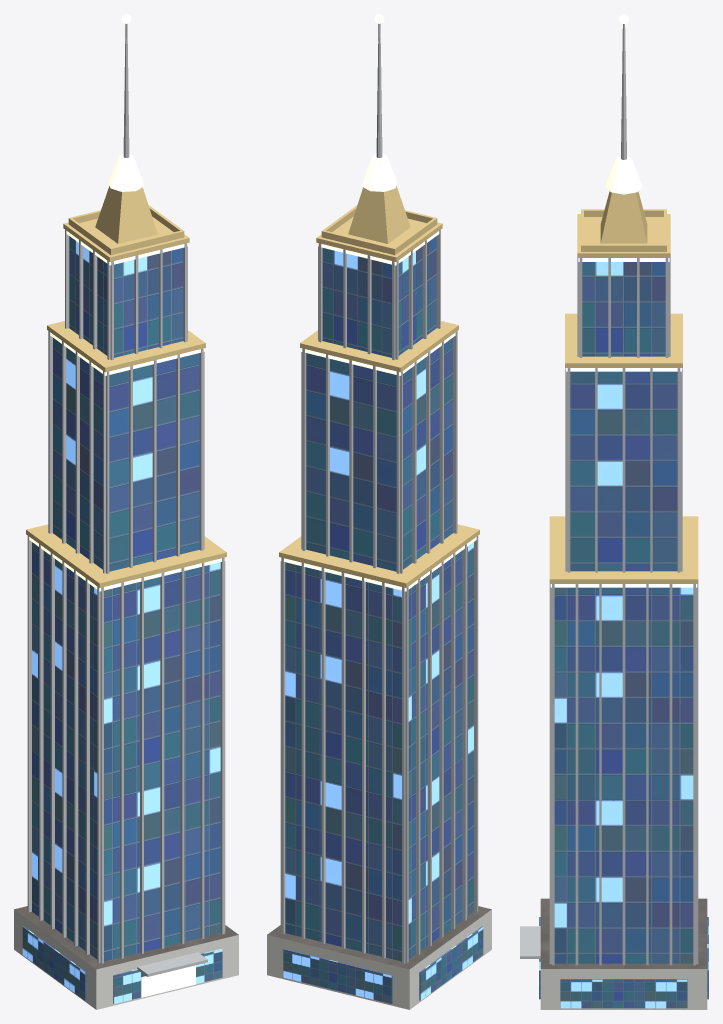
File: financial_tower_spire.glb
3 views of the same model, side by side, from view 1: azimuth 30°, elevation 25°; view 2: azimuth 150°, elevation 25°; view 3: azimuth 270°, elevation 25° (orthographic).
Visible parts, largest first — view 1: financial_tower_spire__facade_glass, financial_tower_spire__steel, financial_tower_spire__gold, financial_tower_spire__white, financial_tower_spire__trim_glow, financial_tower_spire__roof, financial_tower_spire__window_glow; view 2: financial_tower_spire__facade_glass, financial_tower_spire__steel, financial_tower_spire__gold, financial_tower_spire__white, financial_tower_spire__trim_glow, financial_tower_spire__roof; view 3: financial_tower_spire__facade_glass, financial_tower_spire__steel, financial_tower_spire__gold, financial_tower_spire__white, financial_tower_spire__trim_glow, financial_tower_spire__roof.
Part boxes in pixels (<box>): financial_tower_spire__facade_glass: <box>22,236,222,1003</box>; financial_tower_spire__steel: <box>27,23,225,976</box>; financial_tower_spire__gold: <box>26,186,226,587</box>; financial_tower_spire__white: <box>14,909,238,1009</box>; financial_tower_spire__trim_glow: <box>27,154,225,591</box>; financial_tower_spire__roof: <box>14,906,238,969</box>; financial_tower_spire__window_glow: <box>141,965,195,997</box>; financial_tower_spire__facade_glass: <box>283,236,483,1003</box>; financial_tower_spire__steel: <box>280,23,478,963</box>; financial_tower_spire__gold: <box>279,186,479,587</box>; financial_tower_spire__white: <box>267,909,491,1009</box>; financial_tower_spire__trim_glow: <box>280,154,478,591</box>; financial_tower_spire__roof: <box>267,906,491,969</box>; financial_tower_spire__facade_glass: <box>539,262,708,1008</box>; financial_tower_spire__steel: <box>520,24,698,965</box>; financial_tower_spire__gold: <box>549,191,698,583</box>; financial_tower_spire__white: <box>540,969,707,1009</box>; financial_tower_spire__trim_glow: <box>550,156,697,587</box>; financial_tower_spire__roof: <box>540,898,707,968</box>.
Size of the model in its own units: 0.661 by 4.13 by 0.735.
8 materials, 2 textured.
